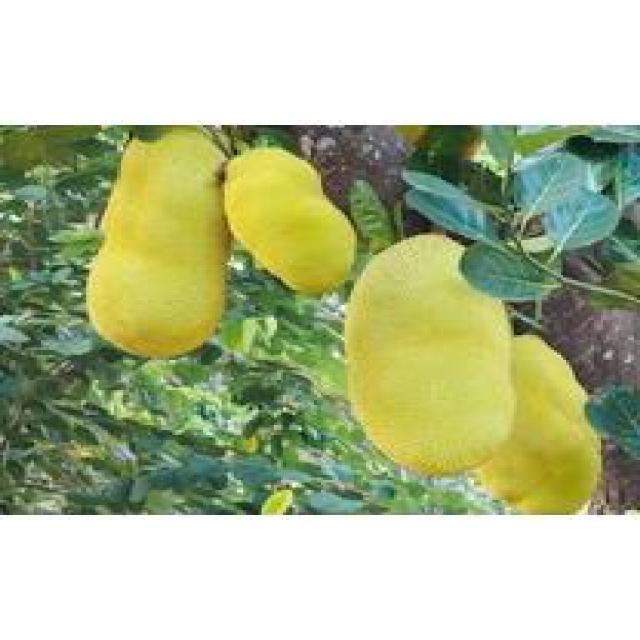Fruit: (326, 220, 634, 505), (64, 128, 256, 382), (200, 128, 385, 318)
